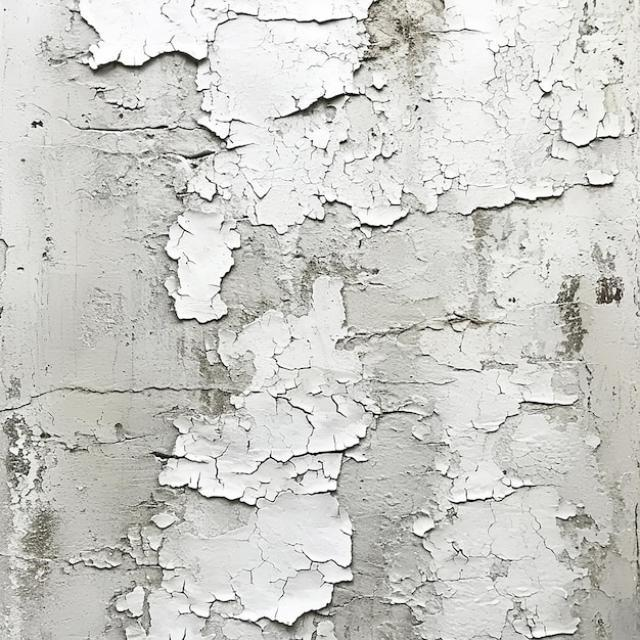Paint peeling: (110, 245, 613, 639), (70, 7, 629, 326)
